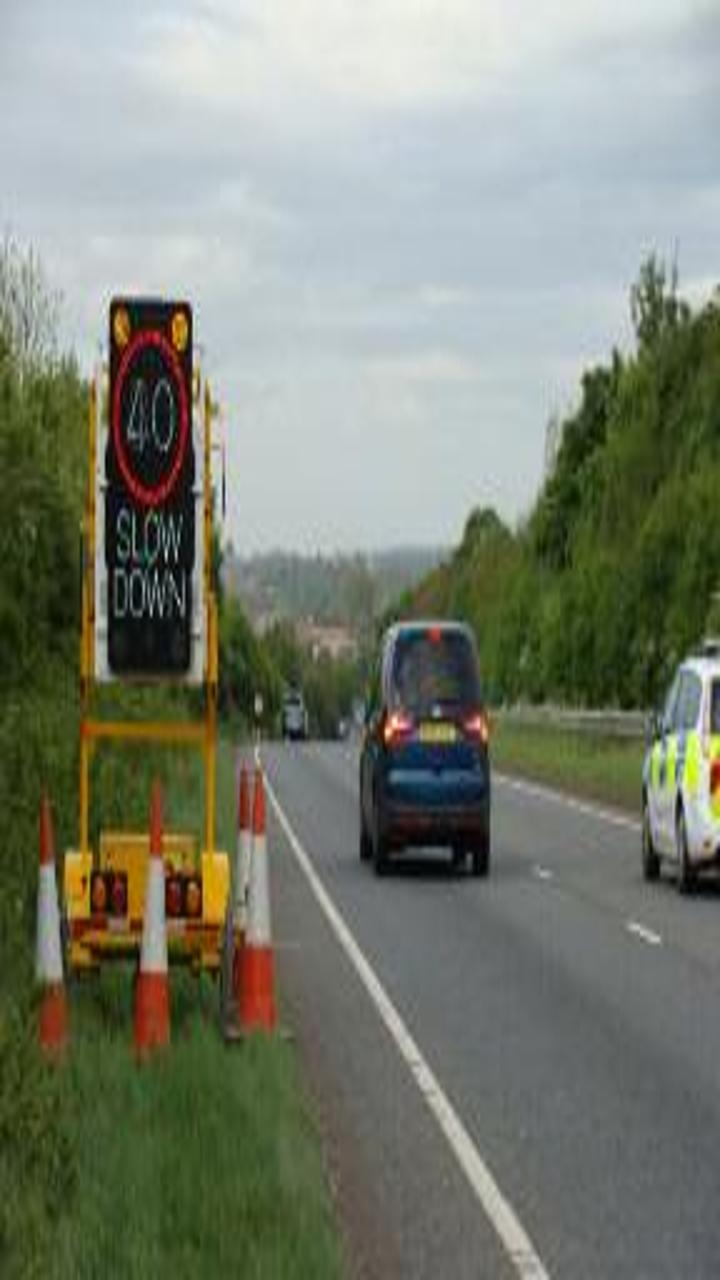Traffic sign: (84, 293, 219, 719)
vehicle: (352, 621, 520, 891), (631, 637, 720, 905), (272, 662, 328, 763)
